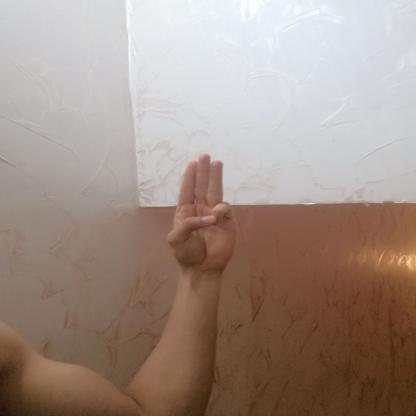THA: (155, 145, 246, 280)
